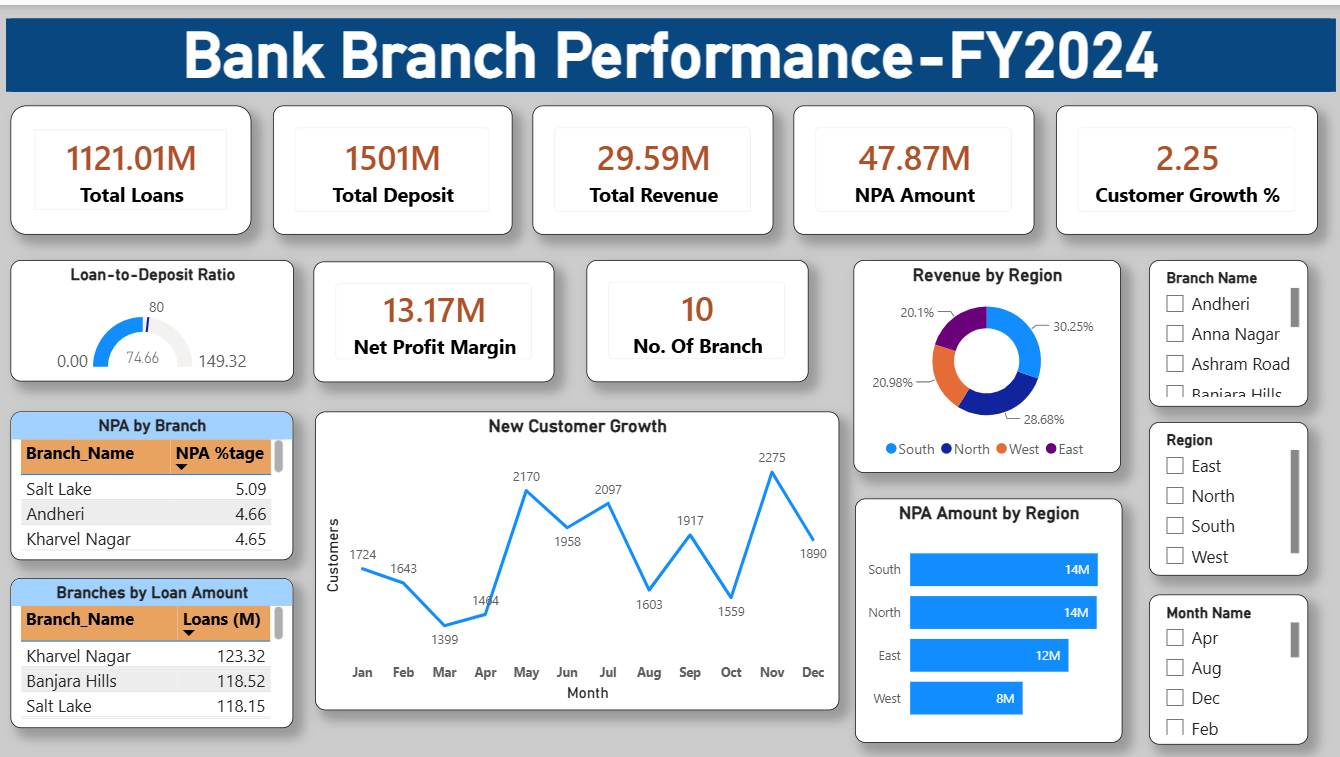

What the dashboard file says about the page in this screenshot:
{"tool":"powerbi","page":{"name":"Page 1","canvas":[1280,720],"ordinal":0},"visuals":[{"type":"textbox","title":"Bank Branch Performance-FY2024","box":[5.7,13.2,1269.9,69.9],"z":0},{"type":"cardVisual","title":"Total Loans","fields":{"Data":["Dax_calculation.Total Loans"]},"box":[10,96.7,230,123.3],"z":1000},{"type":"cardVisual","title":"Total Loans","fields":{"Data":["Dax_calculation.Total_revenue"]},"box":[508.3,96.7,230,123.3],"z":2000},{"type":"cardVisual","title":"Total Loans","fields":{"Data":["Dax_calculation.Total_Deposit"]},"box":[260,96.7,228.3,123.3],"z":3000},{"type":"cardVisual","title":"Total Loans","fields":{"Data":["Dax_calculation.NPA"]},"box":[758.3,96.7,230,123.3],"z":4000},{"type":"gauge","fields":{"Y":["Dax_calculation.Loan-to-Deposit Ratio"]},"box":[10,243.9,270.5,116.2],"z":5000},{"type":"cardVisual","fields":{"Data":["Dax_calculation.Net Profit Margin"]},"box":[300,245,230,115],"z":6000},{"type":"cardVisual","fields":{"Data":["Dax_calculation.Customer Growth %"]},"box":[1008.3,96.7,250,123.3],"z":7000},{"type":"cardVisual","title":"Total Loans","fields":{"Data":["Dax_calculation.No. Of Branch"]},"box":[560,243.3,211.7,116.7],"z":8000},{"type":"tableEx","title":"NPA by Branch","fields":{"Values":["Dim_Branch.Branch_Name","Dax_calculation.NPA %tage"]},"box":[10.2,387.8,269.9,141.8],"z":9000},{"type":"lineChart","title":"New Customer Growth","fields":{"Category":["Dim_Date.Month_Name"],"Y":["Sum(Fact_BranchPerformance.New_Customers)"]},"box":[300.6,387.8,500.5,285.3],"z":10000},{"type":"clusteredBarChart","fields":{"Category":["Dim_Branch.Region"],"Y":["Dax_calculation.NPA Amount"]},"box":[816.7,471.7,255,233.3],"z":11000},{"type":"donutChart","title":"Revenue by Region","fields":{"Category":["Dim_Branch.Region"],"Y":["Dax_calculation.Total_revenue"]},"box":[815,243.3,255,203.3],"z":12000},{"type":"slicer","fields":{"Values":["Dim_Branch.Branch_Name"]},"box":[1096.7,243.3,151.7,140],"z":13000},{"type":"slicer","fields":{"Values":["Dim_Branch.Region"]},"box":[1096.7,398.3,151.7,146.7],"z":14000},{"type":"slicer","fields":{"Values":["Dim_Date.Month_Name"]},"box":[1096.7,563.3,151.7,143.3],"z":15000},{"type":"tableEx","title":"Branches by Loan Amount","fields":{"Values":["Dim_Branch.Branch_Name","Dax_calculation.Total Loans (M)"]},"box":[10.2,546.6,269.9,143.5],"z":16001}]}

Visuals, with their boxes in screenshot pixels (x1, y1, x2, y2), scaled from the page's 1280x720 canvas onto the 1340x757 screenshot:
"Bank Branch Performance-FY2024" textbox: bbox(6, 14, 1335, 87)
"Total Loans" cardVisual: bbox(10, 102, 251, 231)
"Total Loans" cardVisual: bbox(532, 102, 773, 231)
"Total Loans" cardVisual: bbox(272, 102, 511, 231)
"Total Loans" cardVisual: bbox(794, 102, 1035, 231)
gauge - Dax_calculation.Loan-to-Deposit Ratio: bbox(10, 256, 294, 379)
cardVisual - Dax_calculation.Net Profit Margin: bbox(314, 258, 555, 378)
cardVisual - Dax_calculation.Customer Growth %: bbox(1056, 102, 1317, 231)
"Total Loans" cardVisual: bbox(586, 256, 808, 378)
"NPA by Branch" tableEx: bbox(11, 408, 293, 557)
"New Customer Growth" lineChart: bbox(315, 408, 839, 708)
clusteredBarChart - Dim_Branch.Region x Dax_calculation.NPA Amount: bbox(855, 496, 1122, 741)
"Revenue by Region" donutChart: bbox(853, 256, 1120, 470)
slicer - Dim_Branch.Branch_Name: bbox(1148, 256, 1307, 403)
slicer - Dim_Branch.Region: bbox(1148, 419, 1307, 573)
slicer - Dim_Date.Month_Name: bbox(1148, 592, 1307, 743)
"Branches by Loan Amount" tableEx: bbox(11, 575, 293, 726)
